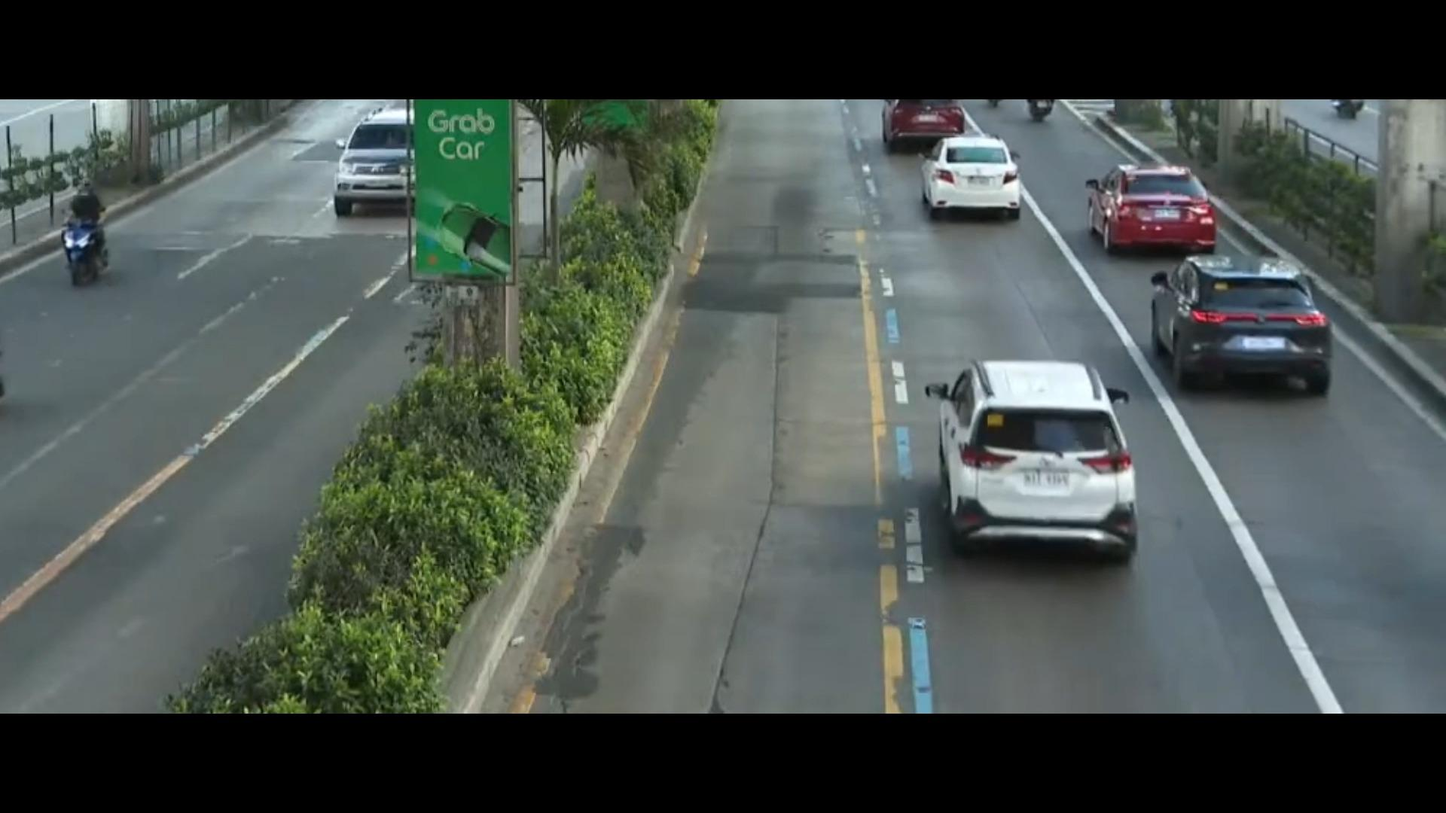Motorcycle: (33, 162, 119, 301)
SUV: (902, 350, 1143, 569), (1129, 251, 1358, 407), (317, 99, 425, 216)
Sedan: (1081, 145, 1241, 270), (917, 130, 1030, 237), (880, 98, 974, 153)
